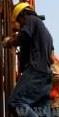gloves: (0, 0, 6, 7), (0, 0, 5, 6)
hard-hat: (11, 1, 34, 21)
vest: (0, 0, 25, 51)
